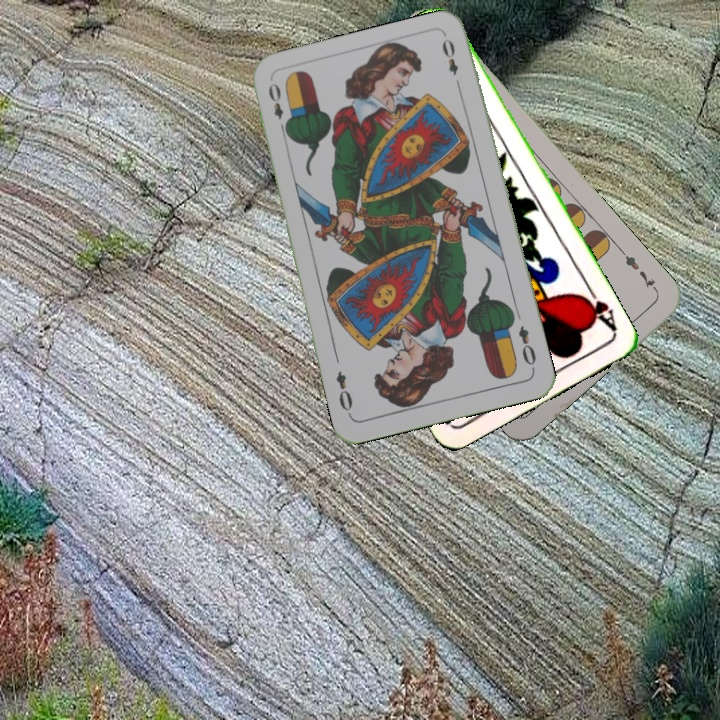E7: (617, 246, 661, 295)
EO: (264, 79, 291, 136), (514, 321, 539, 373)
HA: (575, 280, 620, 334)
